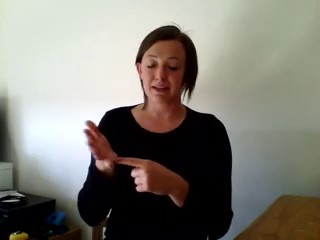T: (82, 113, 180, 199)
